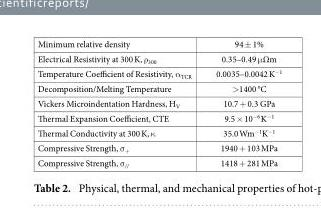table: (36, 37, 281, 169)
table column: (36, 37, 203, 169), (203, 37, 281, 169)
table row: (36, 50, 281, 66), (36, 66, 281, 81), (36, 95, 281, 110), (36, 110, 281, 125), (36, 125, 281, 140), (36, 154, 281, 169), (36, 81, 281, 95), (36, 140, 281, 154), (36, 37, 281, 50)
